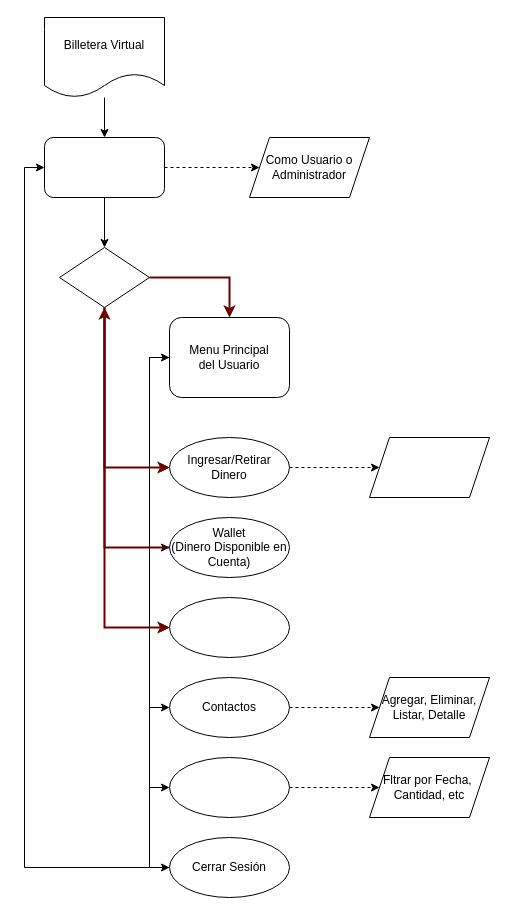
The diagram is 507 pixels wide and 915 high, and some of its shapes have lost their labels. Each missing label, with the centre of its shape:
Conversión a Moneda Extranjera: (x=429, y=467)
Historial de Movimientos: (x=229, y=787)
Iniciar Sesión: (x=104, y=167)
Protegido Contraseña: (x=104, y=277)
Transferencias (A otros usuarios de la App): (x=229, y=627)
